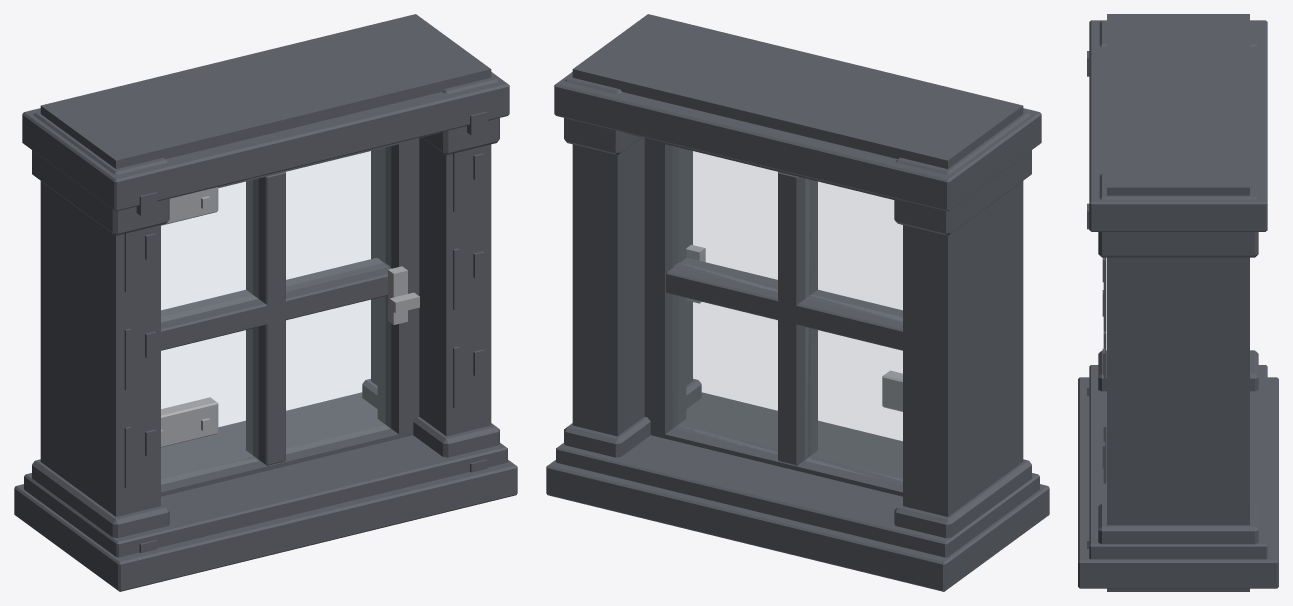
Rendered from train_cab_window.gltf.
3 views of the same model, side by side, from view 1: azimuth 30°, elevation 25°; view 2: azimuth 150°, elevation 25°; view 3: azimuth 270°, elevation 25° (orthographic). The views are drawn at different scales.
Size of the model in its own units: 0.98 by 1 by 0.45.
